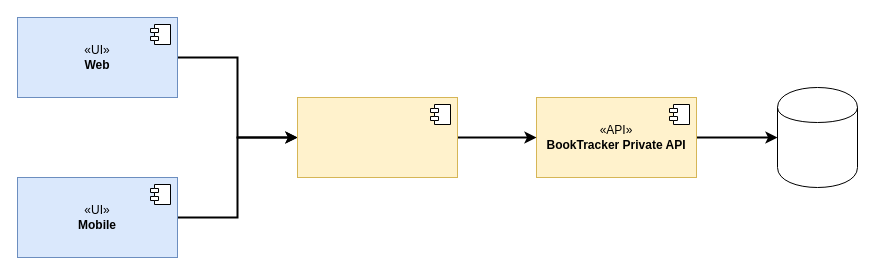
Some shapes in this 875 by 275 pixel diagram are drawn without their labels. The centre of each missing label's shape, as x and y in pixels:
BookTracker: the point at 817,137
«API» BookTracker Public API: the point at 377,137
